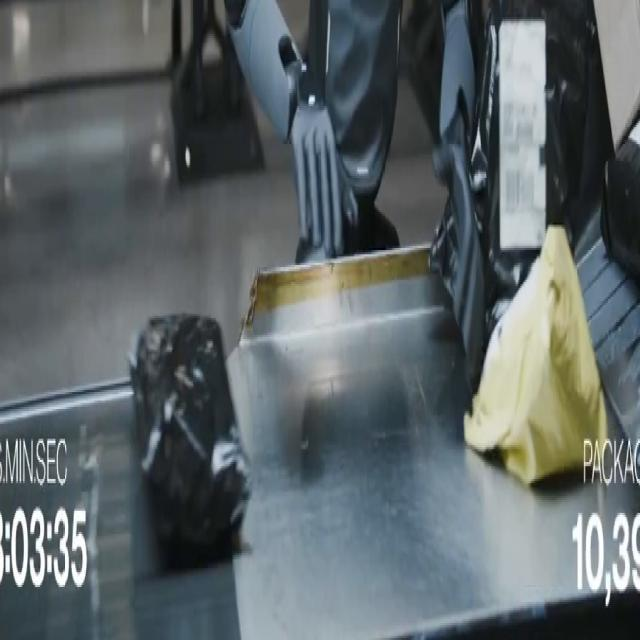package: (470, 0, 611, 339), (465, 227, 607, 485), (129, 316, 251, 548), (594, 0, 639, 148), (601, 123, 639, 281)
